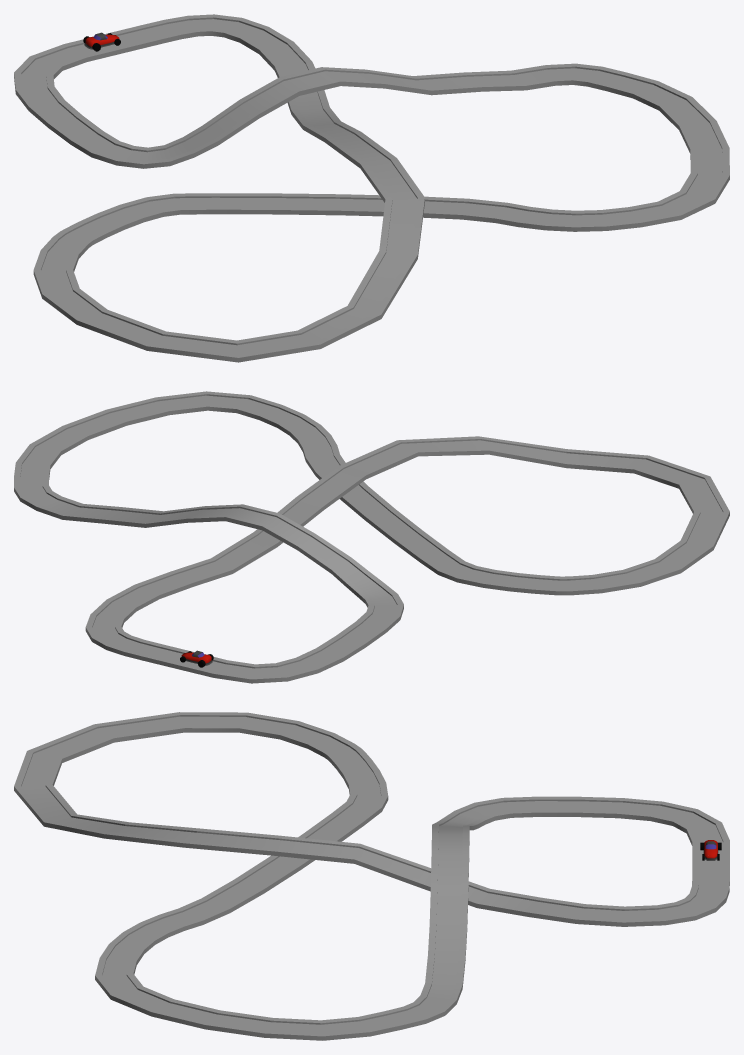
The model's file is CarRoute02.fbx.
3 renders of one model, top to bottom at view 1: azimuth 30°, elevation 25°; view 2: azimuth 150°, elevation 25°; view 3: azimuth 270°, elevation 25°, orthographic. The views are drawn at different scales.
Visible parts, largest first — view 1: route; view 2: route; view 3: route.
Part boxes in pixels (<box>): route: <box>14,14,729,362</box>; route: <box>14,391,729,683</box>; route: <box>14,712,729,1040</box>.
Bounding box in the file's own units: 88.47 × 6.23 × 82.55.
